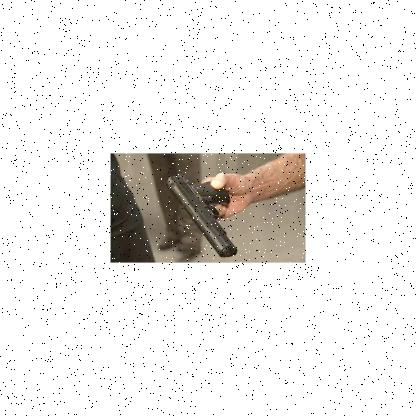gun: (163, 173, 239, 257)
